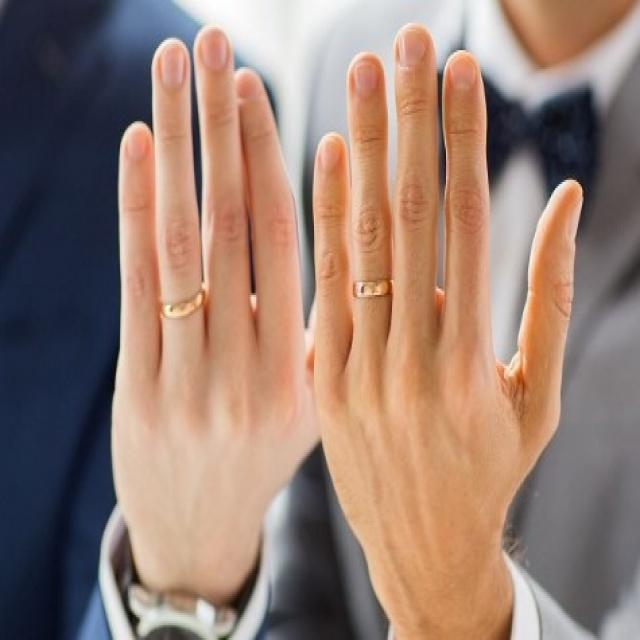Watch: (124, 570, 234, 640)
